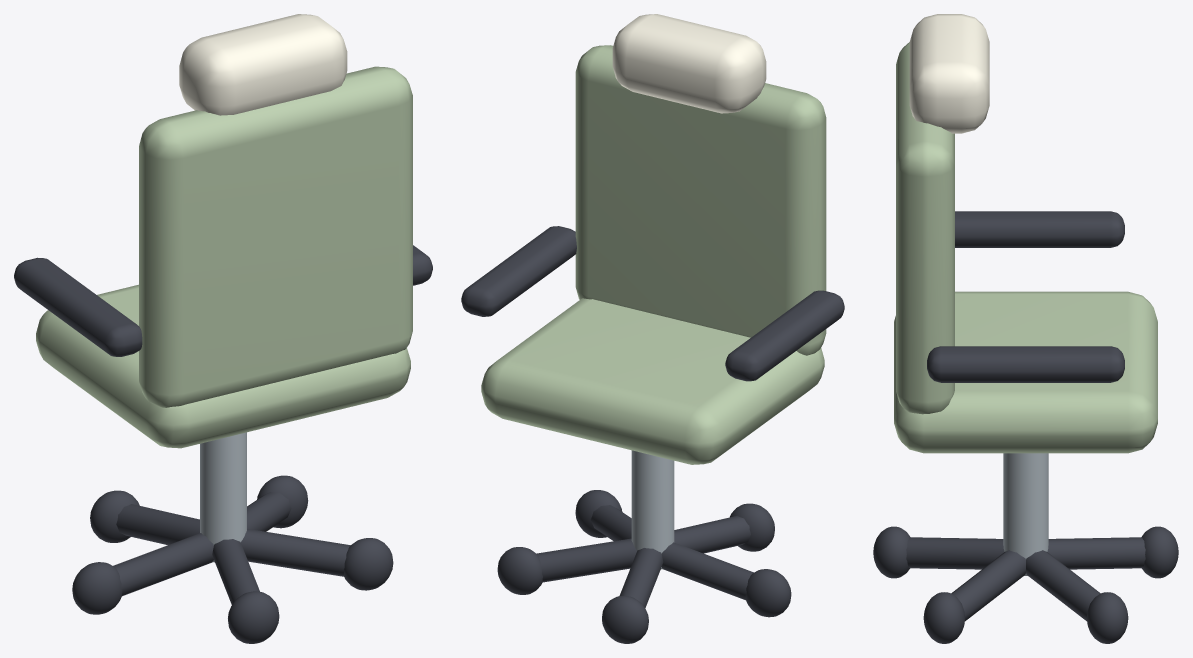
File: chairGamingC.glb
The picture shows the model from 3 angles, left to right: view 1: azimuth 30°, elevation 25°; view 2: azimuth 150°, elevation 25°; view 3: azimuth 270°, elevation 25°; orthographic projection. The views are drawn at different scales.
Visible parts, largest first — view 1: Backrest, Seat, Head rest, Arm rest.001, Chair stem, Caster spoke.002, Caster spoke, Caster spoke.004, Wheel.001, Wheel, Wheel.002, Caster spoke.001 (+4 smaller); view 2: Backrest, Seat, Head rest, Arm rest.001, Arm rest, Chair stem, Caster spoke.003, Caster spoke, Caster spoke.001, Wheel.004, Wheel, Wheel.003 (+4 smaller); view 3: Seat, Backrest, Head rest, Arm rest, Arm rest.001, Chair stem, Caster spoke.001, Caster spoke.004, Caster spoke.002, Caster spoke.003, Wheel.002, Wheel.003 (+2 smaller).
Boxes of the visible parts, x1,y1,x2,y2 form: Backrest: (139,66,412,407); Seat: (36,284,410,448); Head rest: (179,14,347,115); Arm rest.001: (14,257,142,356); Chair stem: (200,432,246,562); Caster spoke.002: (241,529,350,576); Caster spoke: (113,533,213,596); Caster spoke.004: (116,504,199,544); Wheel.001: (228,591,279,643); Wheel: (72,562,122,614); Wheel.002: (343,538,393,590); Caster spoke.001: (212,539,259,604); Backrest: (575,45,826,355); Seat: (481,298,824,464); Head rest: (612,14,766,113); Arm rest.001: (725,290,844,381); Arm rest: (461,226,576,316); Chair stem: (631,450,674,569); Caster spoke.003: (537,538,636,582); Caster spoke: (662,542,753,600); Caster spoke.001: (674,516,750,553); Wheel.004: (602,596,648,643); Wheel: (745,569,791,617); Wheel.003: (497,547,542,594); Seat: (894,291,1157,453); Backrest: (896,42,954,414); Head rest: (909,14,989,133); Arm rest: (927,346,1124,382); Arm rest.001: (955,211,1124,247); Chair stem: (1003,453,1048,575); Caster spoke.001: (906,537,1004,569); Caster spoke.004: (1047,537,1145,569); Caster spoke.002: (951,550,1025,621); Caster spoke.003: (1026,550,1100,621); Wheel.002: (923,592,965,643); Wheel.003: (1086,592,1128,643).
Size of the model in its own units: 1.04 by 1.76 by 0.8808.
